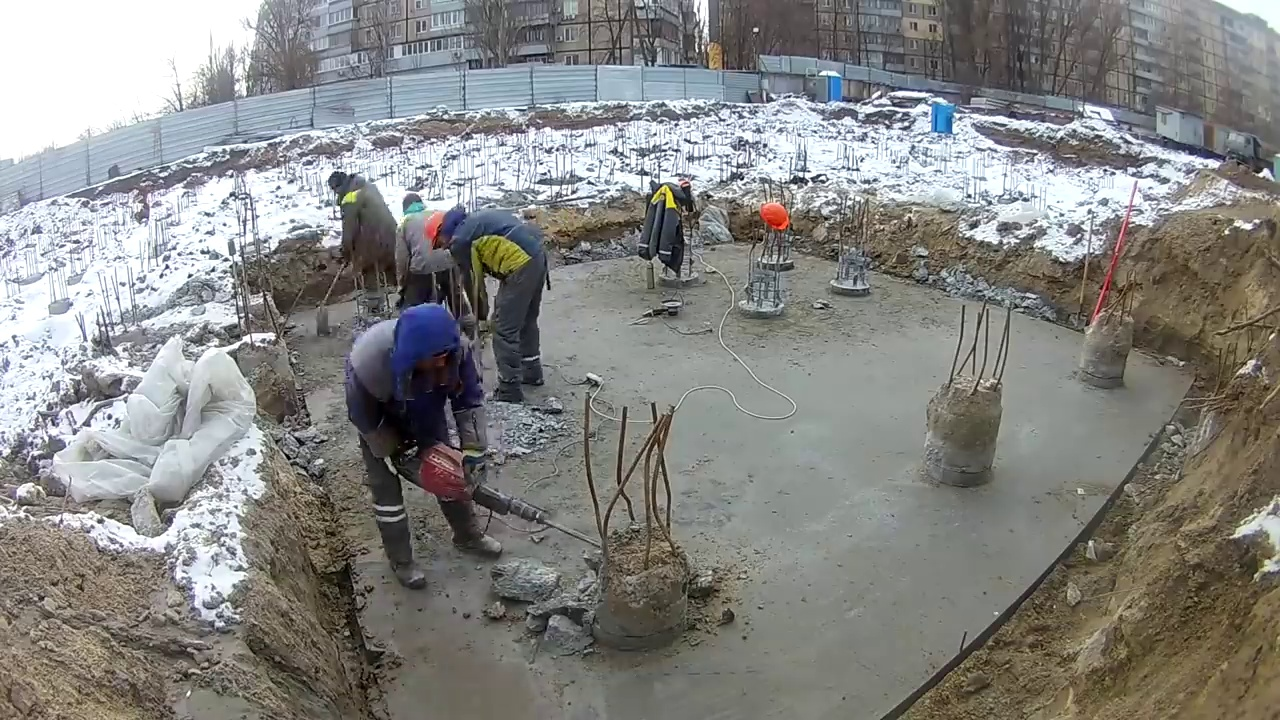helmet: (759, 202, 788, 231), (424, 210, 448, 243)
helmet-off: (395, 301, 460, 388), (327, 171, 350, 197), (402, 193, 424, 216)
helmet-on: (424, 205, 464, 249)
person: (347, 300, 503, 590), (424, 201, 544, 407), (327, 169, 403, 331), (394, 193, 473, 346)
